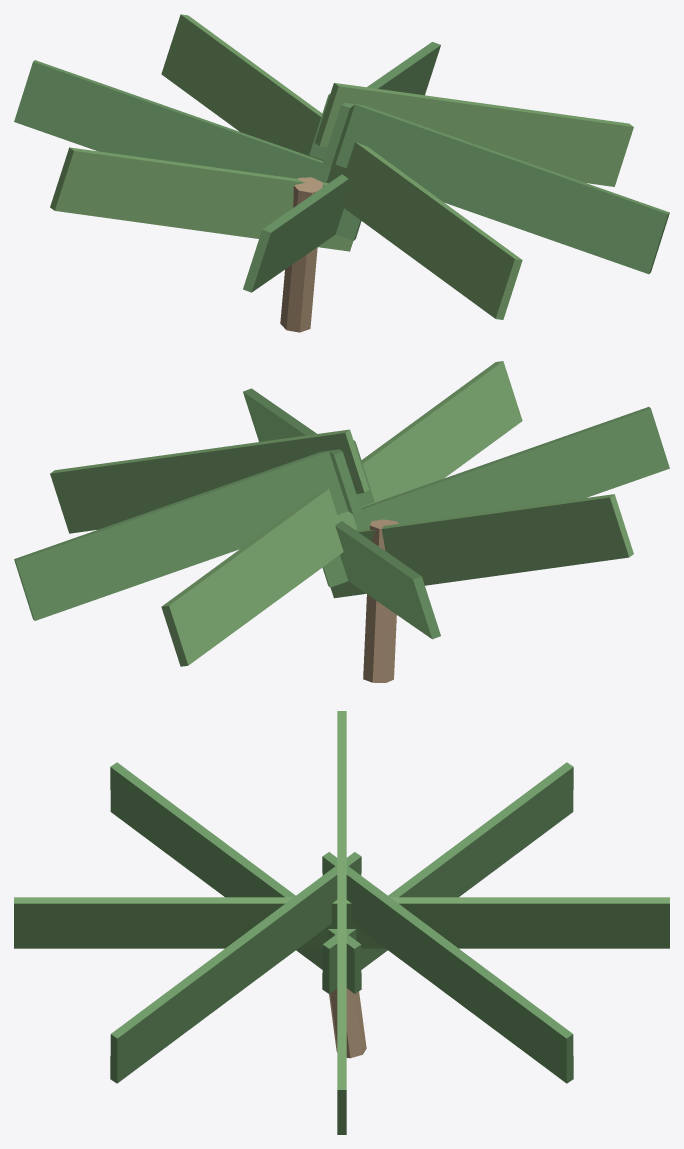
The model's file is palm.glb.
The picture shows the model from 3 angles, top to bottom: view 1: azimuth 30°, elevation 25°; view 2: azimuth 150°, elevation 25°; view 3: azimuth 270°, elevation 25°; orthographic projection.
Visible parts, largest first — view 1: palm_f7, palm_f3, palm_f4, palm_f0, palm_f6, palm_f2, palm_f5, palm_t4, palm_f1; view 2: palm_f1, palm_f5, palm_f4, palm_f0, palm_f2, palm_f6, palm_f3, palm_t4, palm_f7; view 3: palm_f2, palm_f6, palm_f1, palm_f7, palm_f3, palm_f5, palm_f0, palm_t4, palm_f4.
Part boxes in pixels (bbox=[...]): palm_f7: bbox=[309, 93, 669, 274]; palm_f3: bbox=[14, 60, 361, 240]; palm_f4: bbox=[50, 147, 353, 251]; palm_f0: bbox=[314, 83, 633, 186]; palm_f6: bbox=[322, 142, 522, 319]; palm_f2: bbox=[161, 14, 368, 160]; palm_f5: bbox=[243, 174, 348, 292]; palm_t4: bbox=[280, 177, 322, 332]; palm_f1: bbox=[322, 42, 440, 167]; palm_f1: bbox=[14, 440, 374, 620]; palm_f5: bbox=[322, 407, 669, 587]; palm_f4: bbox=[330, 494, 633, 598]; palm_f0: bbox=[50, 429, 369, 533]; palm_f2: bbox=[161, 489, 340, 666]; palm_f6: bbox=[322, 361, 522, 553]; palm_f3: bbox=[335, 521, 440, 639]; palm_t4: bbox=[363, 519, 398, 682]; palm_f7: bbox=[243, 388, 361, 514]; palm_f2: bbox=[314, 897, 669, 948]; palm_f6: bbox=[14, 897, 351, 948]; palm_f1: bbox=[322, 852, 573, 1083]; palm_f7: bbox=[110, 852, 361, 1083]; palm_f3: bbox=[322, 762, 573, 993]; palm_f5: bbox=[110, 762, 361, 993]; palm_f0: bbox=[337, 838, 346, 1134]; palm_t4: bbox=[329, 988, 366, 1058]; palm_f4: bbox=[337, 711, 346, 837].
Size of the model in its own units: 3.5 by 1.37 by 3.5.
